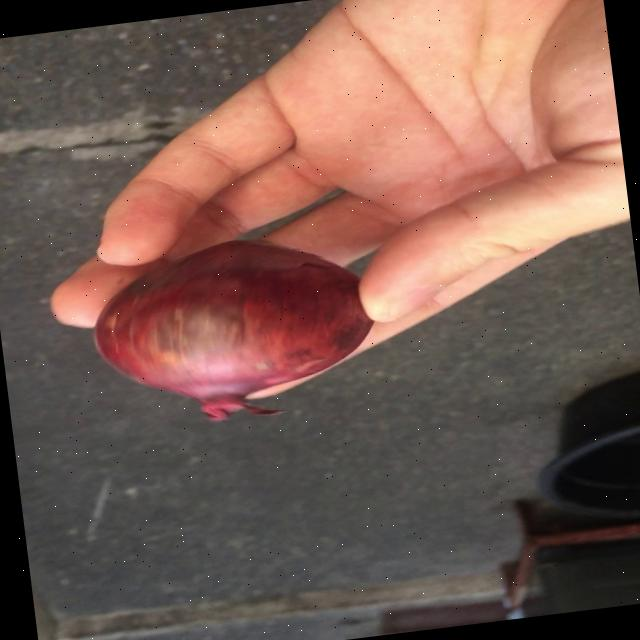Onion: (93, 239, 372, 420)
